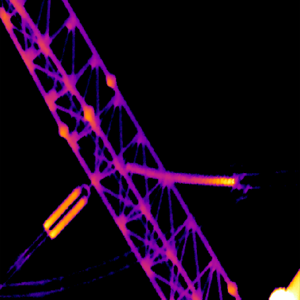insulator: (124, 158, 235, 186), (42, 183, 89, 239)
